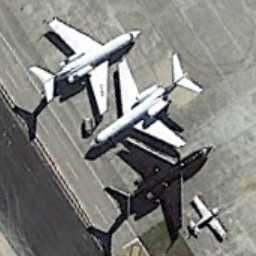Airplane: (12, 5, 146, 115), (88, 43, 223, 151), (92, 135, 229, 218), (184, 193, 244, 248)
